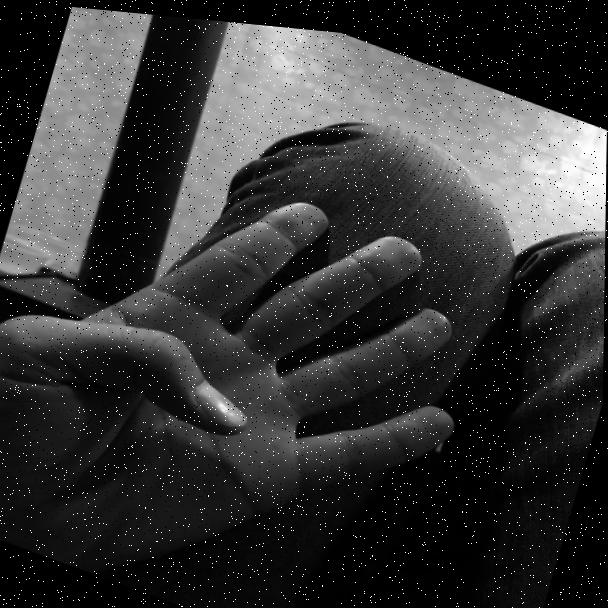four: (0, 102, 509, 608)
